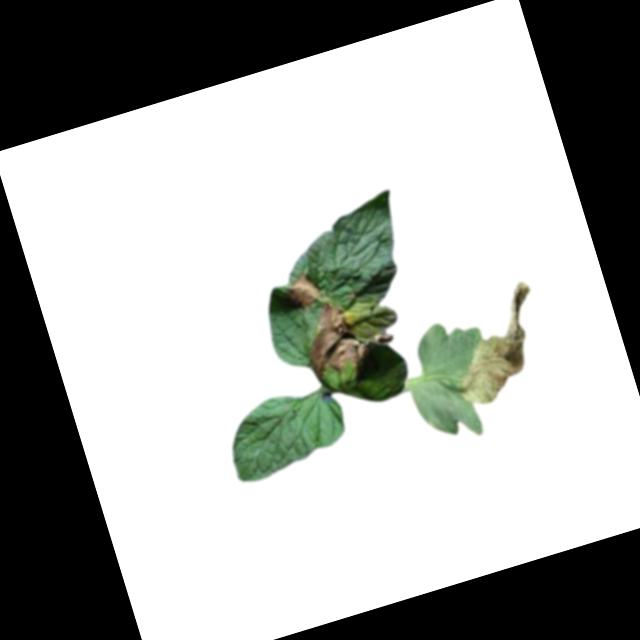Late_blight: (430, 276, 560, 412), (295, 286, 402, 386), (281, 267, 329, 313)
